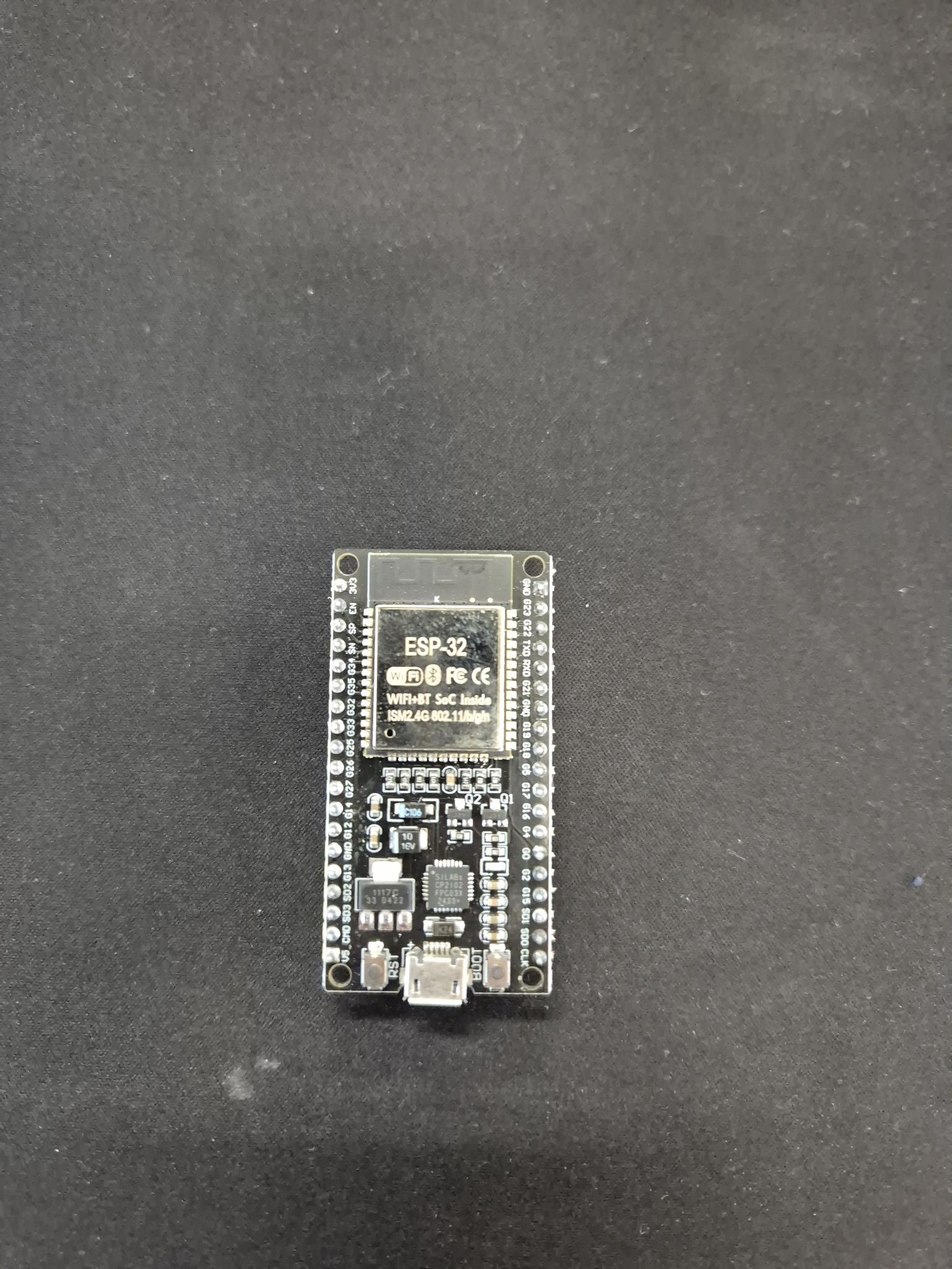esp32-dev: (327, 546, 559, 1001)
